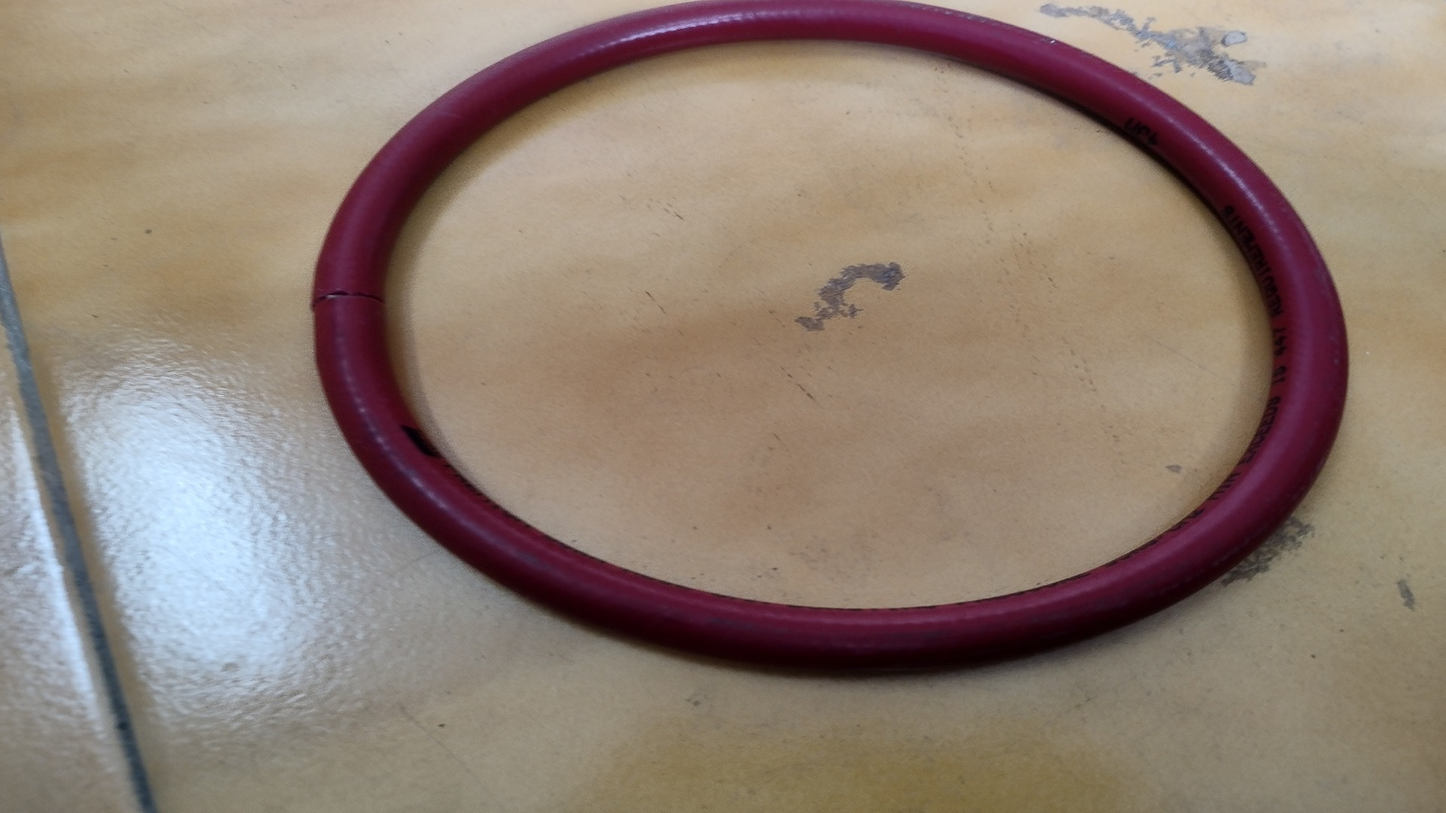Red ring: (307, 5, 1338, 656)
